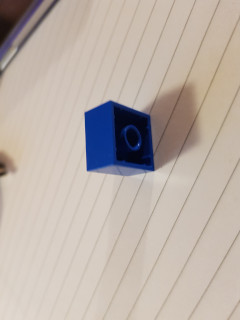2x2 blue: (82, 98, 156, 179)
